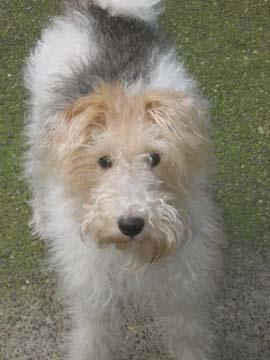wire-haired_fox_terrier: (25, 4, 219, 359)
